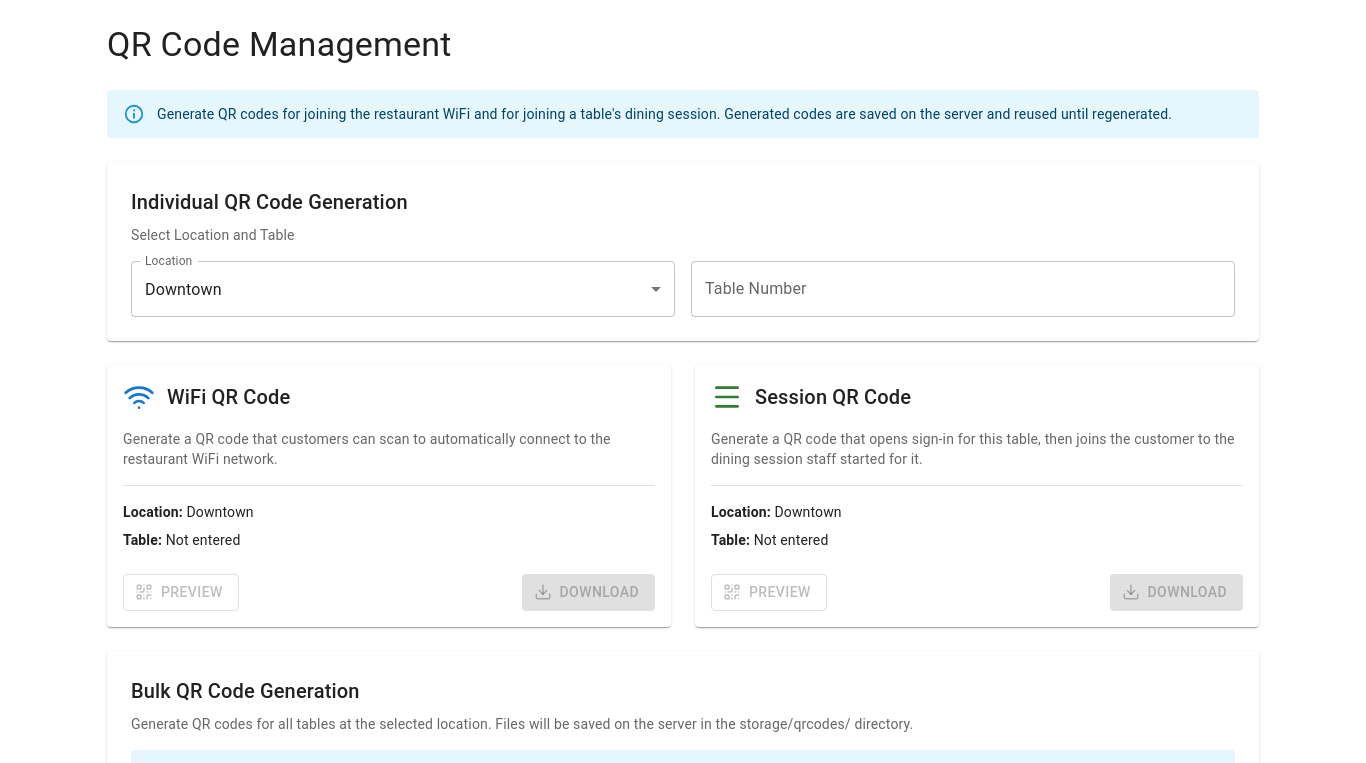
Test: QRCodeManagement Component › displays error message on API failure
Check: the heading "QR Code Management" is shown, box [107,24,452,66]
Note: Fill table number
In the number field labelled "Table Number": (963, 289) [691,261,1235,317], type "5"
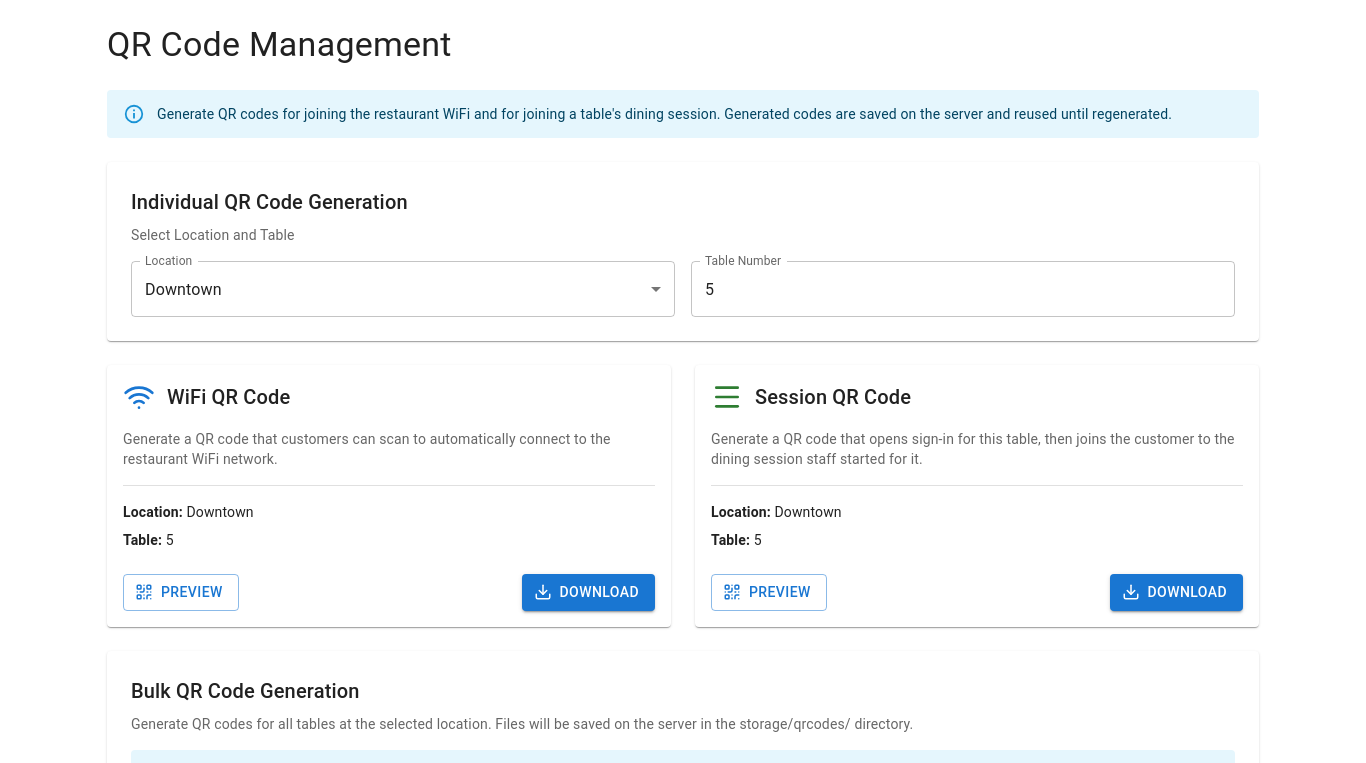
Check: the button "Download" below "WiFi QR Code" is enabled
Note: Try to download
Click the button "Download" below "WiFi QR Code": (588, 592) [522,574,655,611]
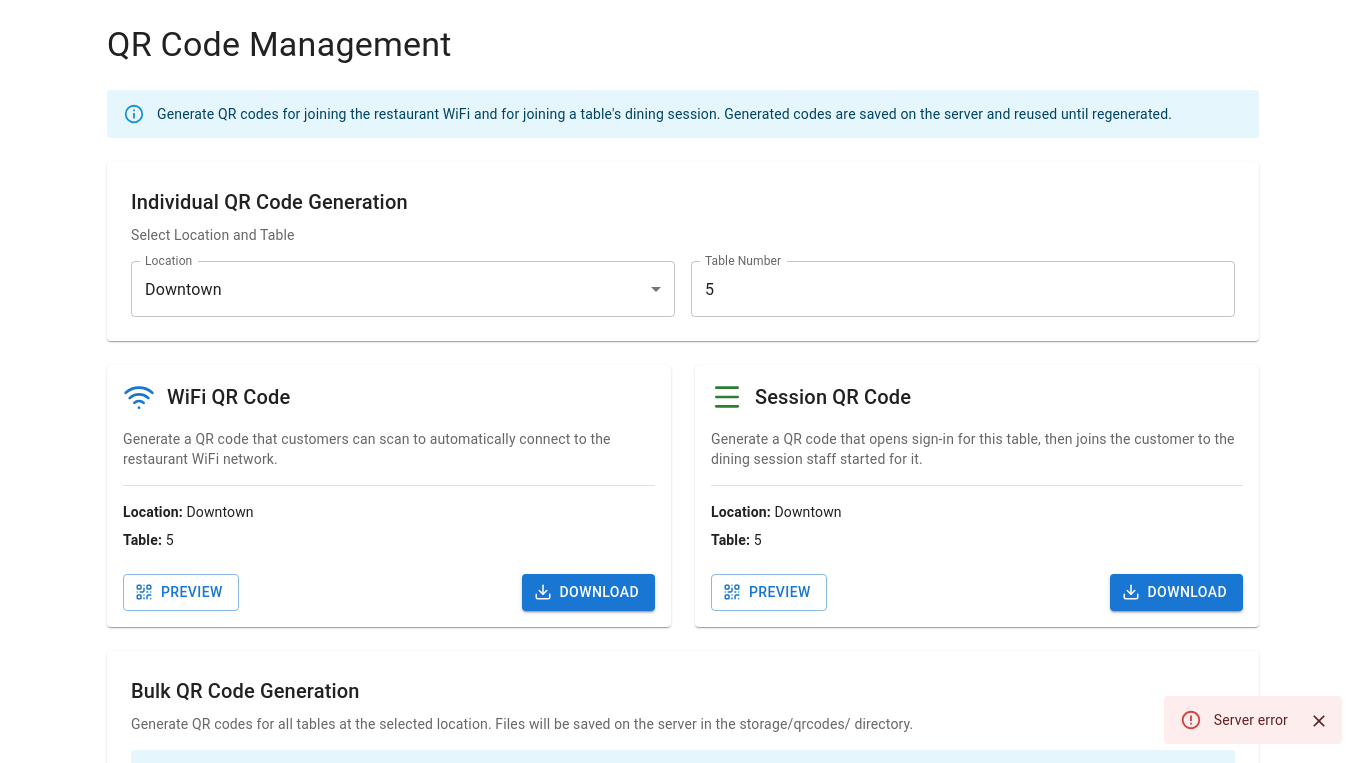
Check: the text "Server error" is shown, box [1214,712,1288,728]
